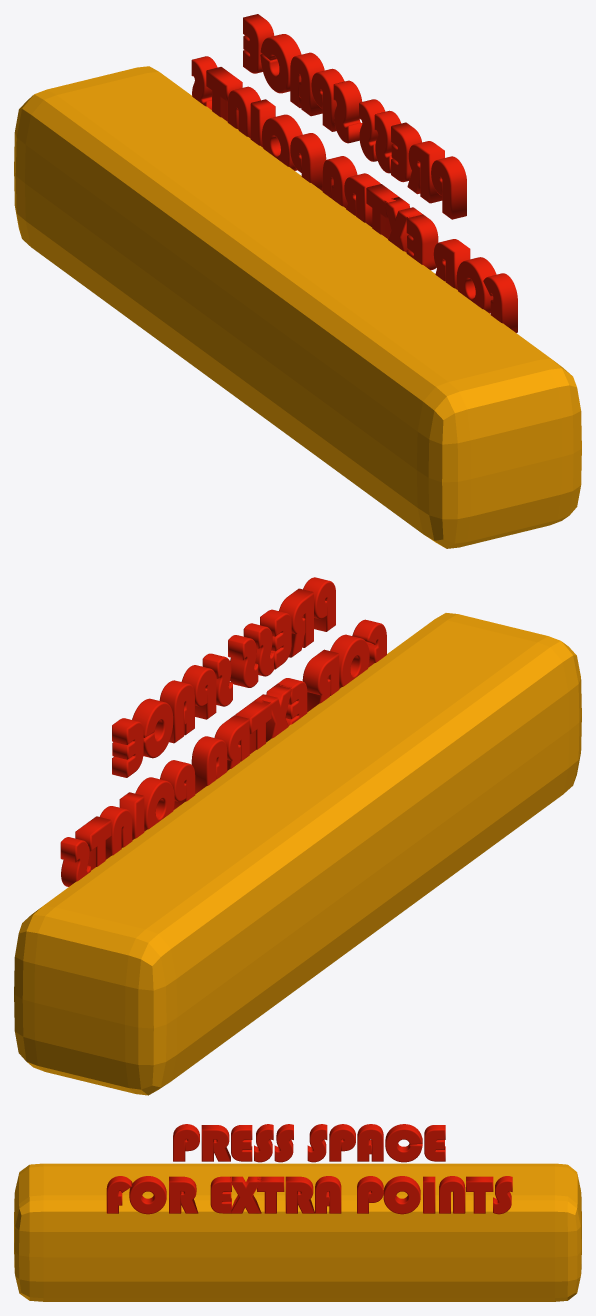
The model's file is pressSpace.fbx.
3 views of the same model, one above another, from view 1: azimuth 30°, elevation 25°; view 2: azimuth 150°, elevation 25°; view 3: azimuth 270°, elevation 25° (orthographic). The views are drawn at different scales.
Parts seen in each view (by area): view 1: Cube, Text; view 2: Cube, Text; view 3: Cube, Text.
Part boxes in pixels (x1,y1,x2,y2): Cube: (14,66,581,548); Text: (191,14,517,332); Cube: (14,613,581,1095); Text: (60,577,386,886); Cube: (14,1163,581,1301); Text: (106,1124,512,1214).
Bounding box in the file's own units: 200 × 345 × 992.
